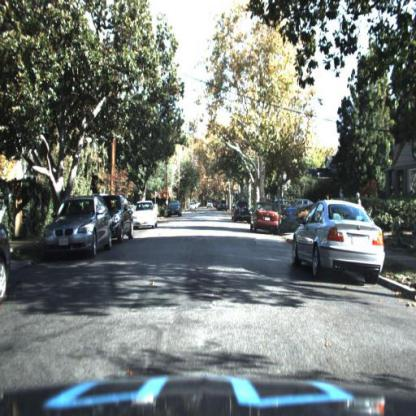car: (292, 197, 388, 280), (41, 196, 115, 258), (103, 191, 136, 242), (250, 202, 285, 236), (283, 193, 318, 218), (130, 200, 157, 230), (233, 199, 252, 223), (168, 197, 181, 218), (218, 197, 230, 214)
